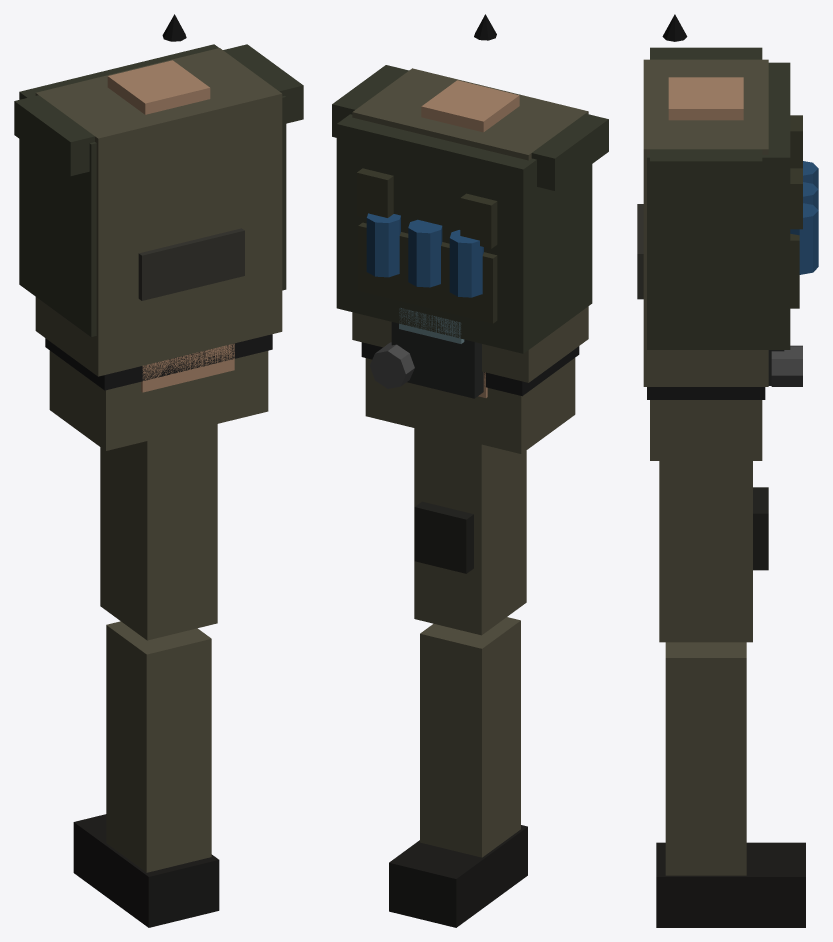
Rendered from operator_thatcher.glb.
3 views of the same model, side by side, from view 1: azimuth 30°, elevation 25°; view 2: azimuth 150°, elevation 25°; view 3: azimuth 270°, elevation 25° (orthographic). The views are drawn at different scales.
Parts seen in each view (by area): view 1: torso, legL, hips, head; view 2: torso, legL, hips, head; view 3: torso, legL, hips, head.
Part boxes in pixels (left/top/right/bottom): torso: left=14, top=14, right=303, bottom=376; legL: left=73, top=424, right=219, bottom=927; hips: left=45, top=334, right=272, bottom=450; head: left=138, top=228, right=244, bottom=392; torso: left=332, top=14, right=608, bottom=382; legL: left=389, top=428, right=527, bottom=927; hips: left=361, top=342, right=579, bottom=453; head: left=369, top=308, right=487, bottom=398; torso: left=643, top=14, right=818, bottom=386; legL: left=656, top=461, right=805, bottom=927; hips: left=647, top=387, right=765, bottom=460; head: left=637, top=204, right=802, bottom=386.
Bounding box in the file's own units: 0.43 × 1.58 × 0.29.
